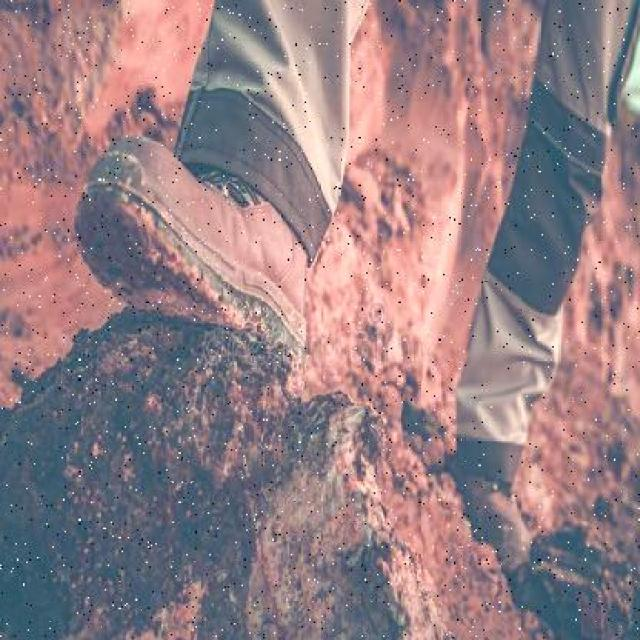shoes: (74, 136, 320, 362)
